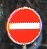No entry: (6, 6, 42, 44)
